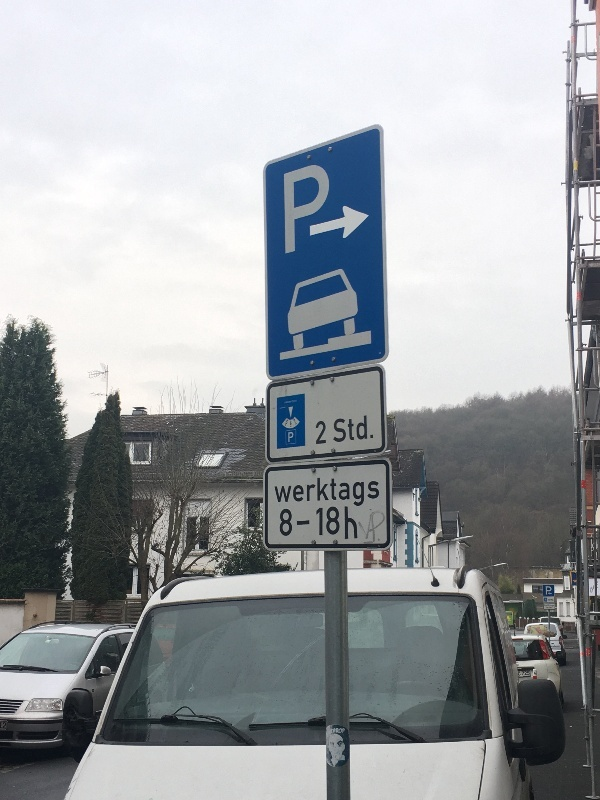text: (289, 160, 304, 255), (305, 160, 320, 255), (321, 160, 336, 255), (289, 507, 304, 540), (305, 507, 320, 540), (321, 507, 336, 540), (337, 507, 352, 540), (369, 510, 384, 543), (289, 474, 304, 506), (305, 474, 320, 506), (321, 474, 336, 506), (337, 474, 352, 506), (353, 474, 368, 506), (274, 474, 288, 506), (337, 415, 352, 443), (353, 415, 368, 443), (284, 160, 288, 255), (369, 474, 379, 506), (280, 507, 288, 540), (353, 507, 358, 540), (363, 510, 368, 543), (369, 415, 374, 443), (315, 421, 320, 444), (321, 421, 326, 444), (546, 587, 560, 595), (1, 722, 16, 729), (333, 415, 336, 443), (290, 421, 304, 426), (518, 671, 528, 677), (289, 432, 294, 443), (295, 419, 304, 423), (289, 400, 298, 404), (385, 510, 386, 543), (588, 649, 592, 657), (522, 671, 528, 676), (547, 607, 560, 609), (548, 599, 560, 601), (597, 582, 600, 590), (545, 605, 554, 607), (551, 599, 560, 601), (593, 585, 595, 594), (551, 646, 560, 648), (280, 407, 288, 409), (285, 400, 288, 404), (286, 420, 288, 425), (591, 585, 592, 594), (529, 671, 530, 676)
